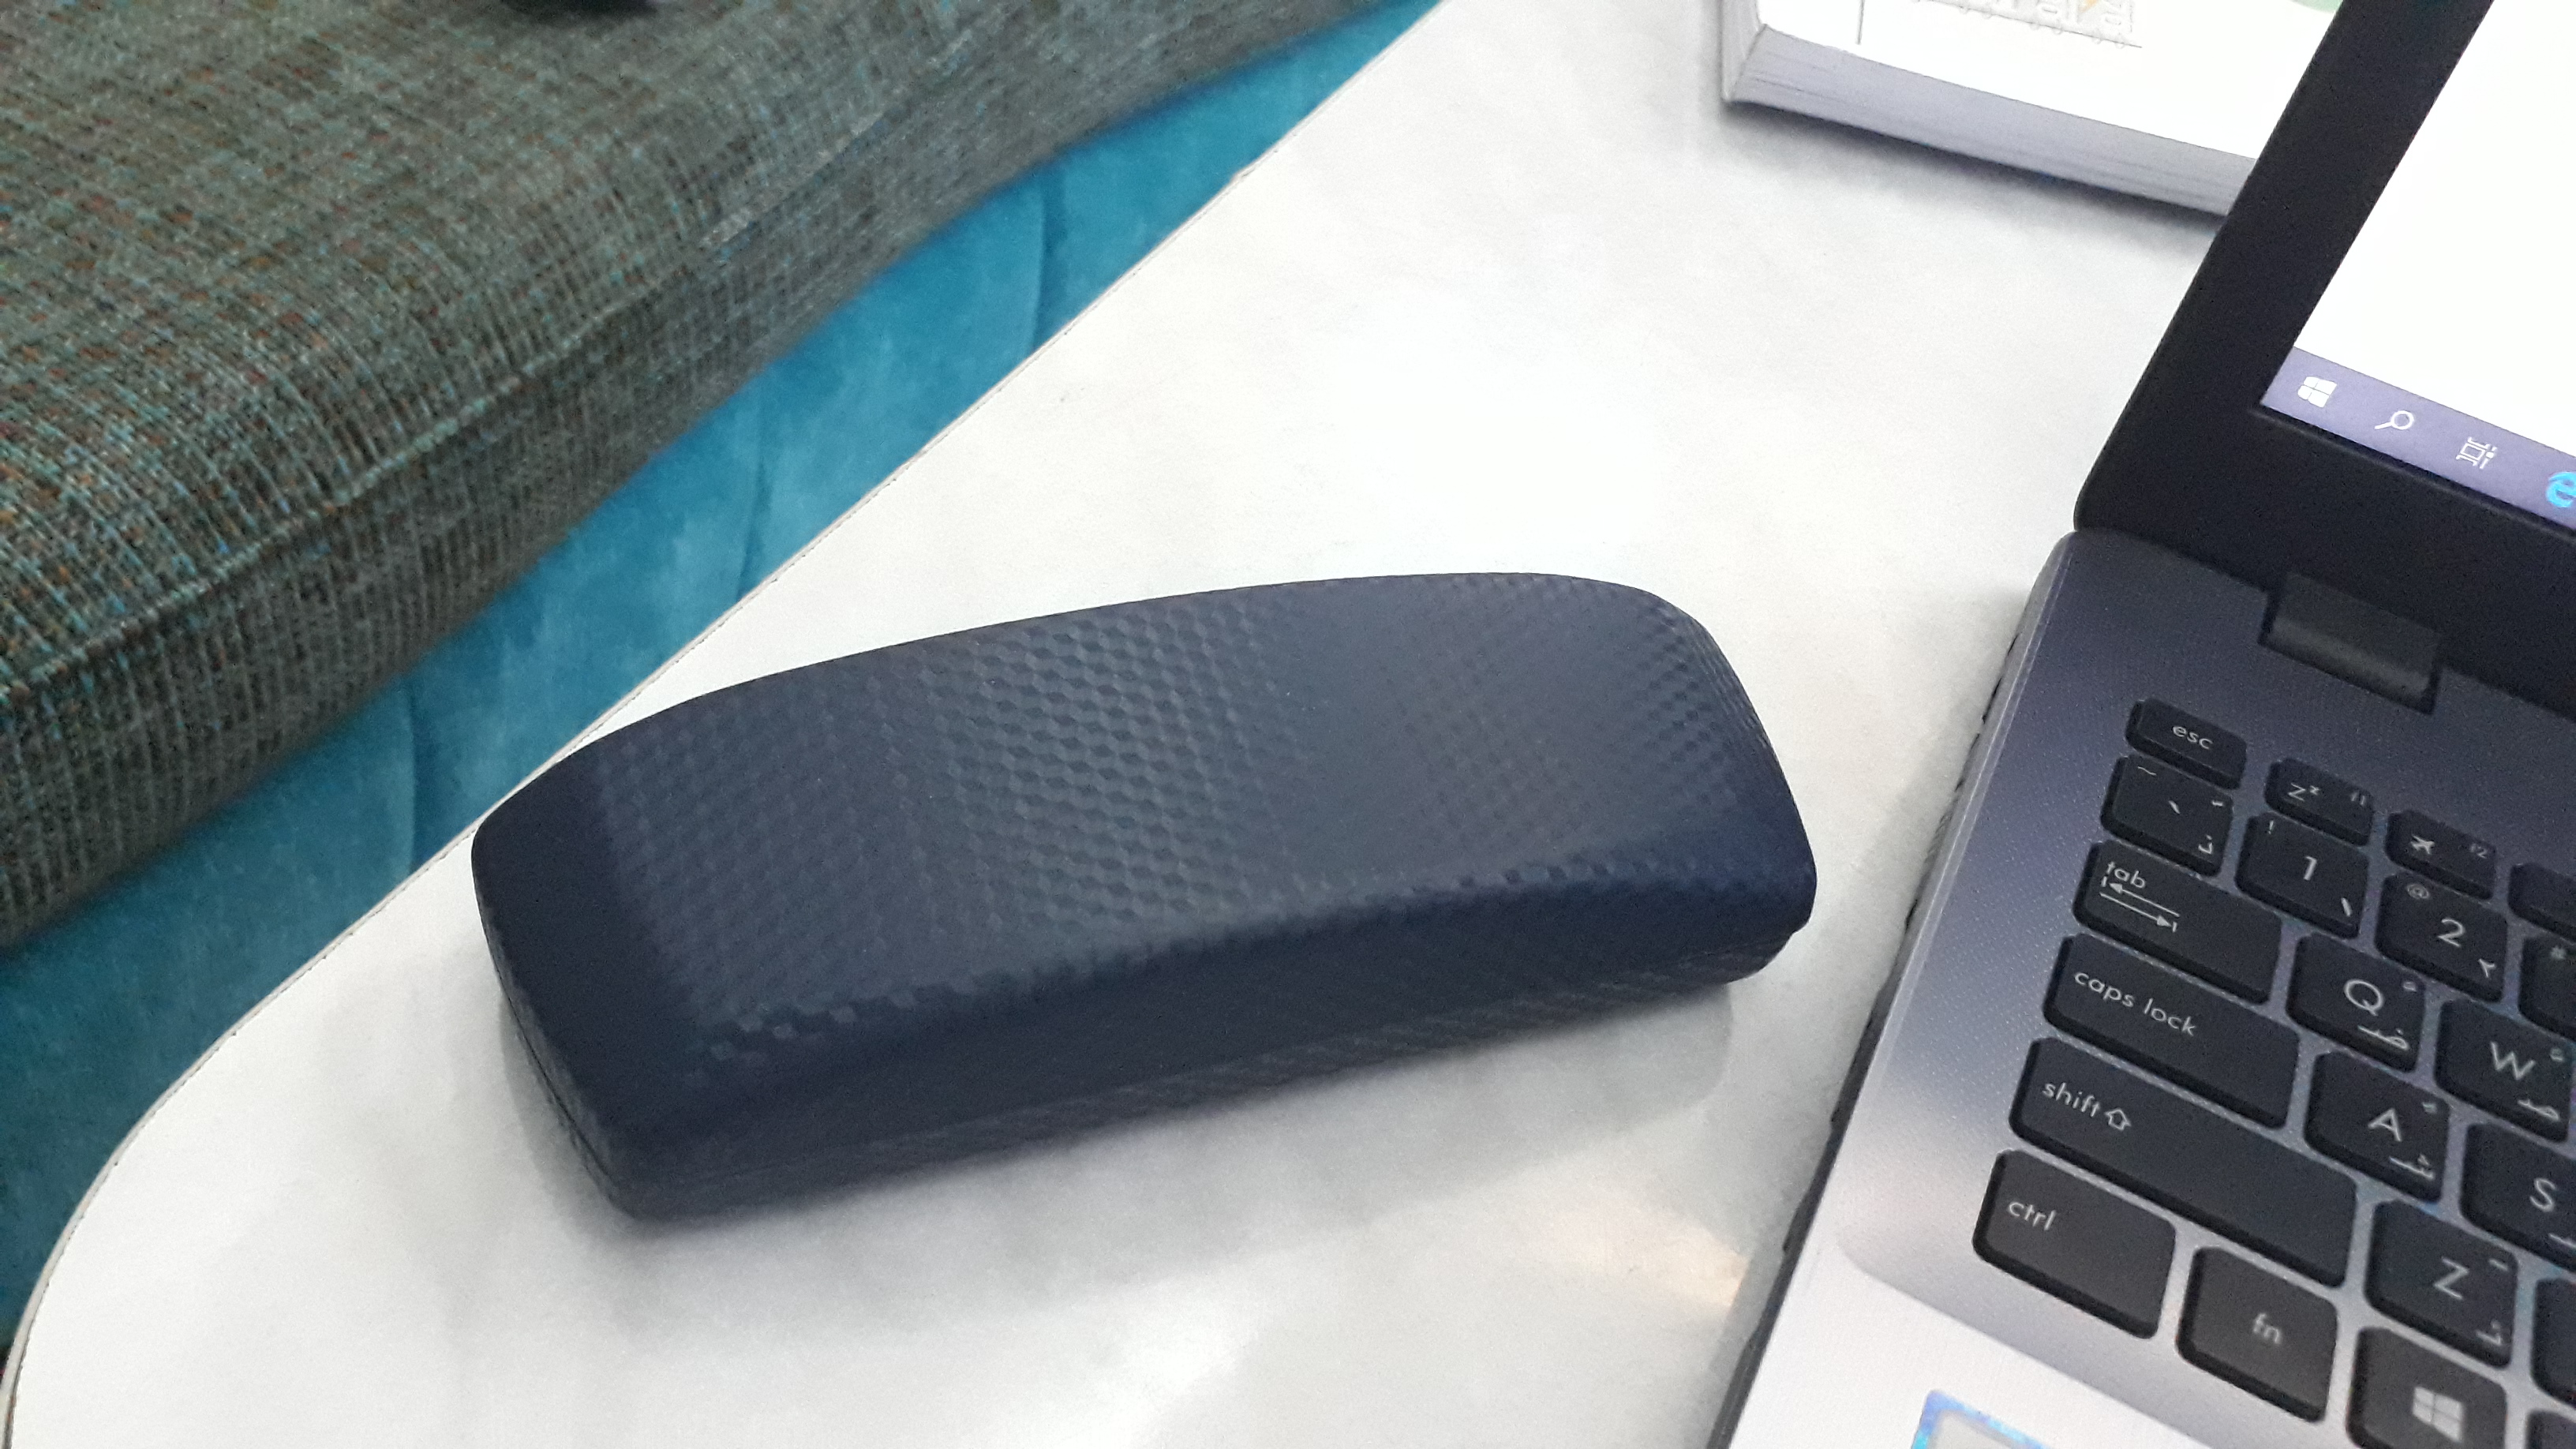nadar: (451, 524, 1822, 1330)
